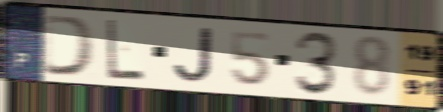3: (292, 29, 339, 97)
5: (227, 28, 272, 88)
8: (350, 34, 394, 100)
D: (40, 12, 99, 79)
J: (171, 25, 216, 85)
L: (105, 17, 146, 82)
